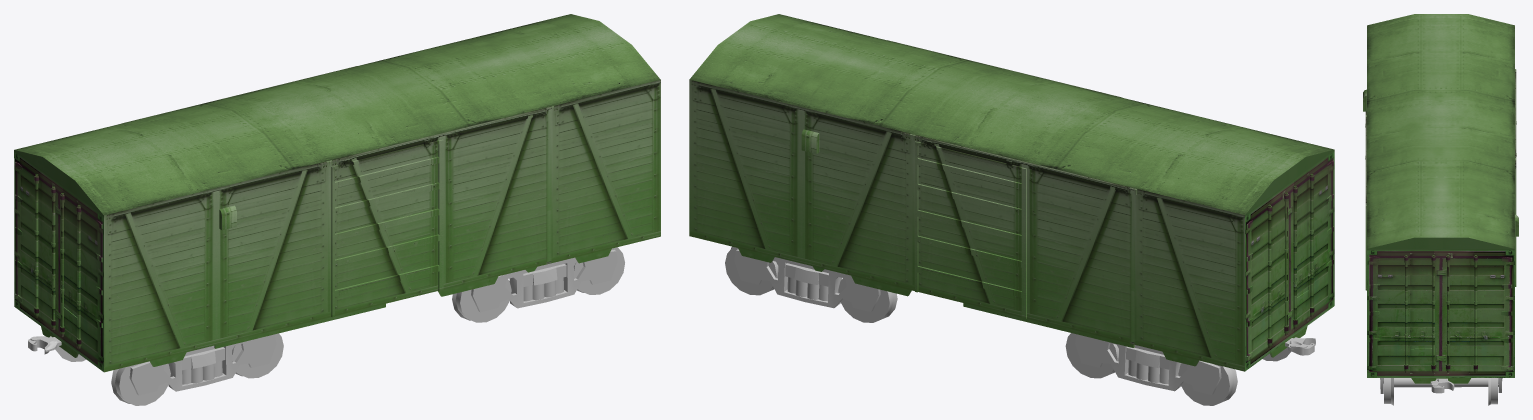
The model's file is TrainBoxCar09.FBX.
The picture shows the model from 3 angles, left to right: view 1: azimuth 30°, elevation 25°; view 2: azimuth 150°, elevation 25°; view 3: azimuth 270°, elevation 25°; orthographic projection. The views are drawn at different scales.
Visible parts, largest first — view 1: TrainBoxCar09, TrainBoxCar01Wheels; view 2: TrainBoxCar09, TrainBoxCar01Wheels; view 3: TrainBoxCar09, TrainBoxCar01Wheels, TrainBoxCar01Detail.
Part boxes in pixels (<box>): TrainBoxCar09: <box>14,14,660,372</box>; TrainBoxCar01Wheels: <box>55,247,624,405</box>; TrainBoxCar09: <box>689,14,1334,371</box>; TrainBoxCar01Wheels: <box>725,246,1291,405</box>; TrainBoxCar09: <box>1363,14,1518,383</box>; TrainBoxCar01Wheels: <box>1380,378,1502,405</box>; TrainBoxCar01Detail: <box>1430,378,1454,393</box>.
Bounding box in the file's own units: 664 × 236 × 179.
